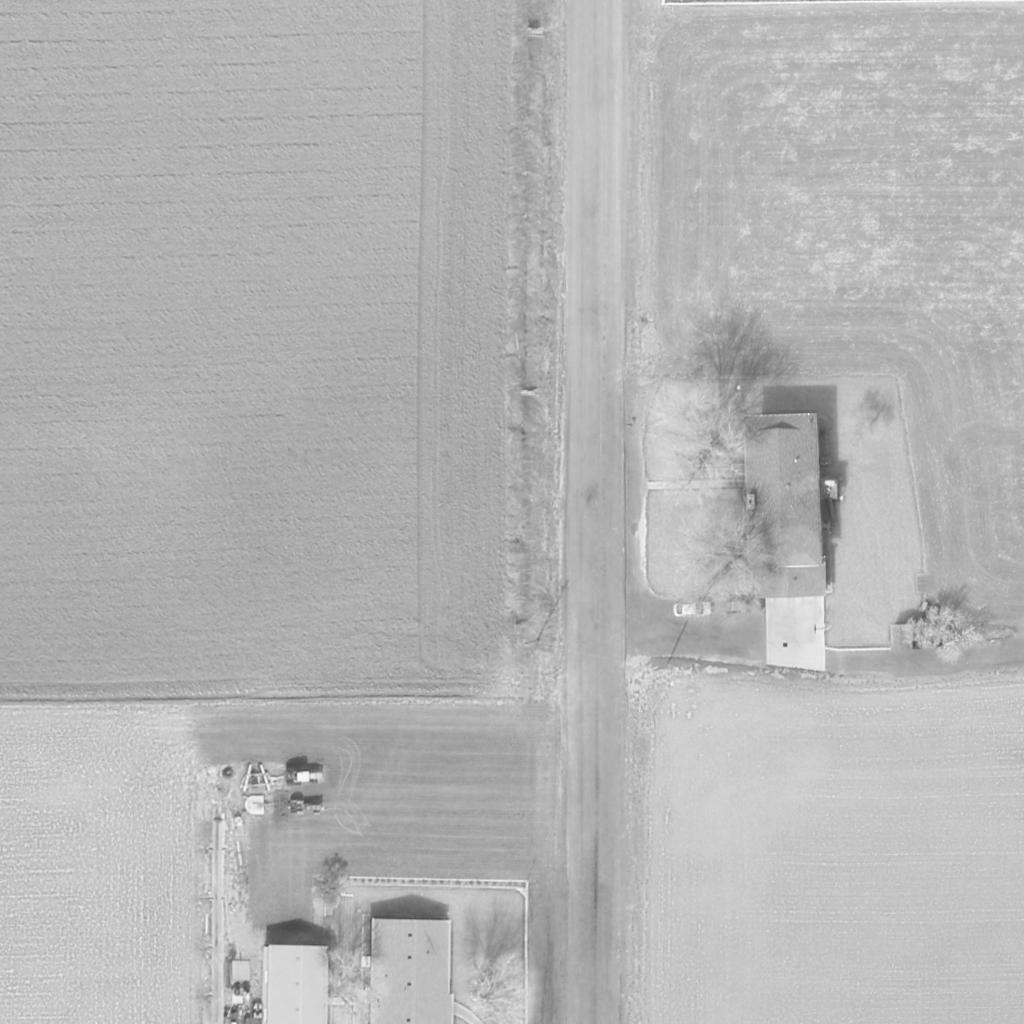vehicle: (286, 764, 328, 786), (289, 797, 325, 819), (724, 597, 766, 615), (672, 600, 714, 618)
